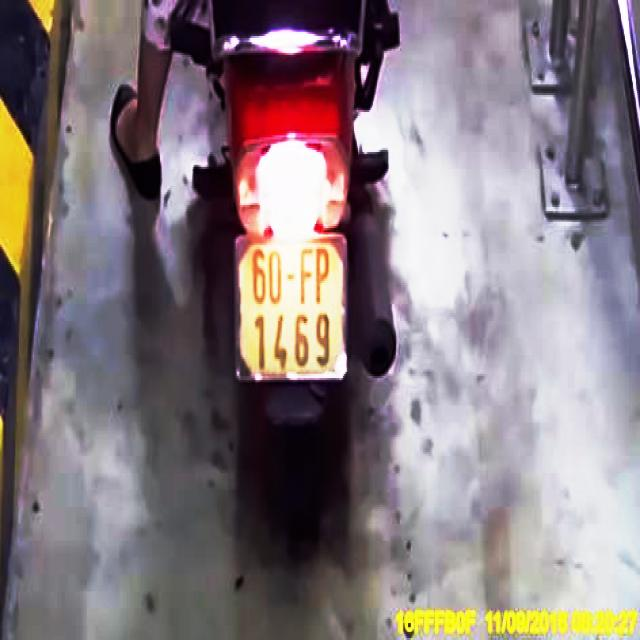license_plate: (238, 239, 347, 381)
